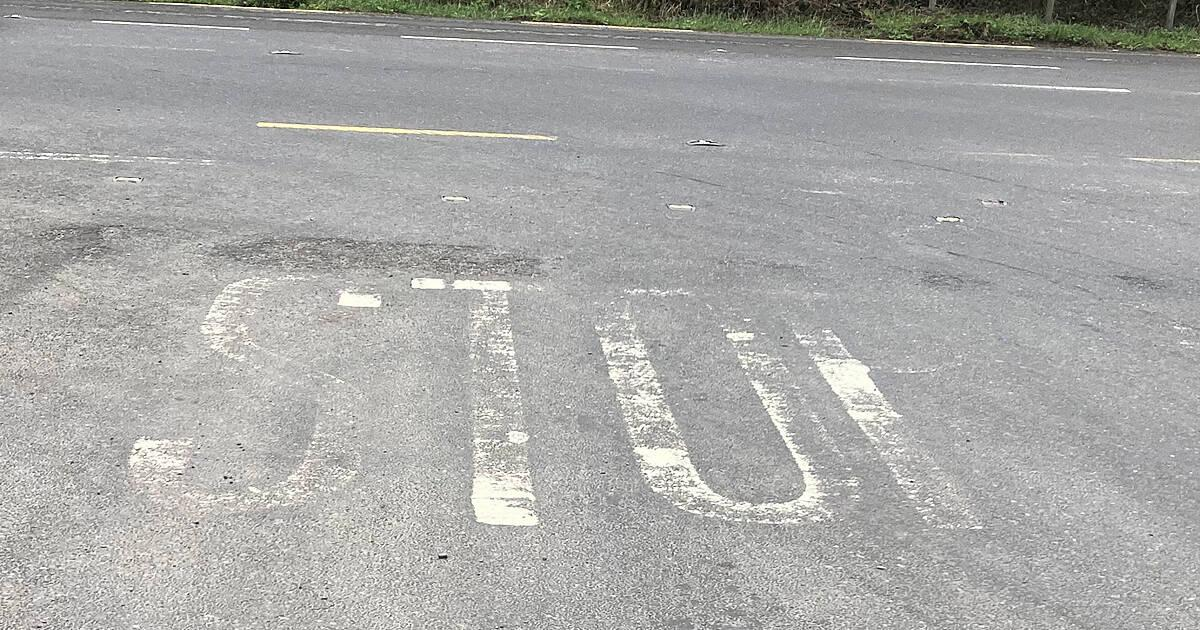faded_road_lines: (59, 245, 1028, 558), (0, 128, 1200, 210), (1, 0, 785, 86), (773, 68, 1200, 109)
